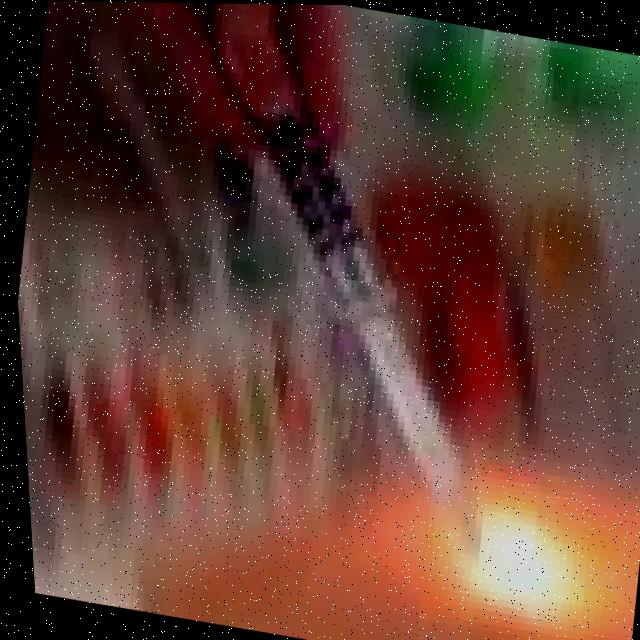knife: (183, 95, 539, 554)
